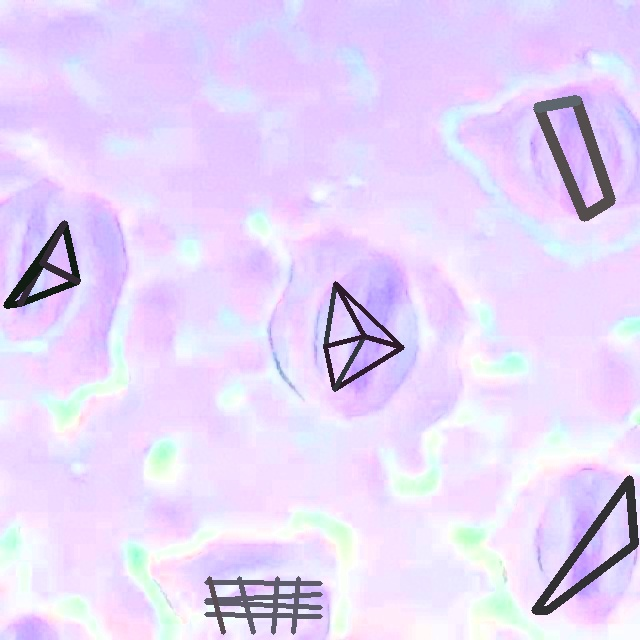close: (204, 576, 322, 634)
open: (531, 475, 638, 614), (534, 96, 614, 221), (323, 281, 404, 391), (3, 220, 80, 306)
